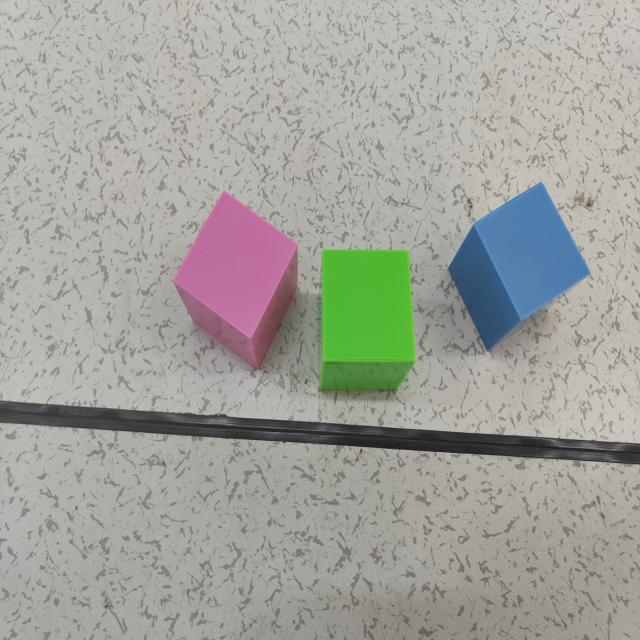blue: (449, 184, 591, 351)
green: (320, 249, 416, 395)
pink: (173, 193, 299, 369)
